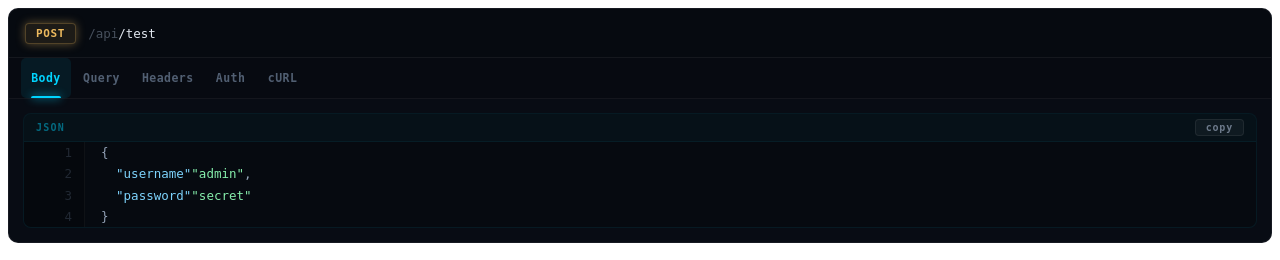
it: RequestPanel — empty tabs and cURL › shows empty headers message when request has no headers
Click the button "Headers": coordinates (168, 78) 132,58 -> 204,98
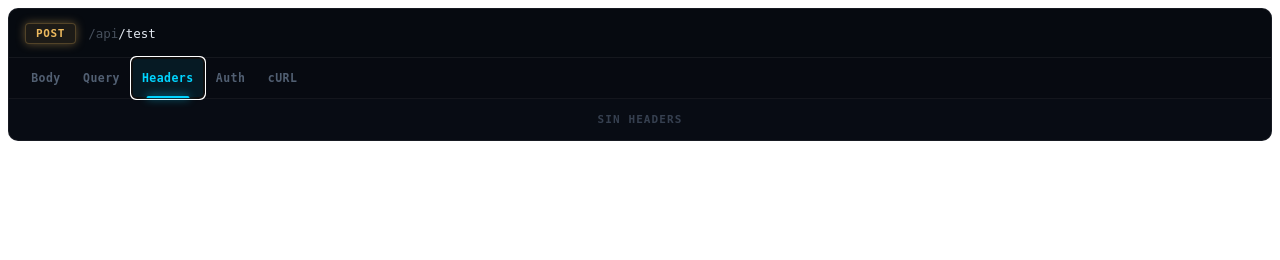
Now the text "Sin headers" is shown, box 598,113 -> 682,126
